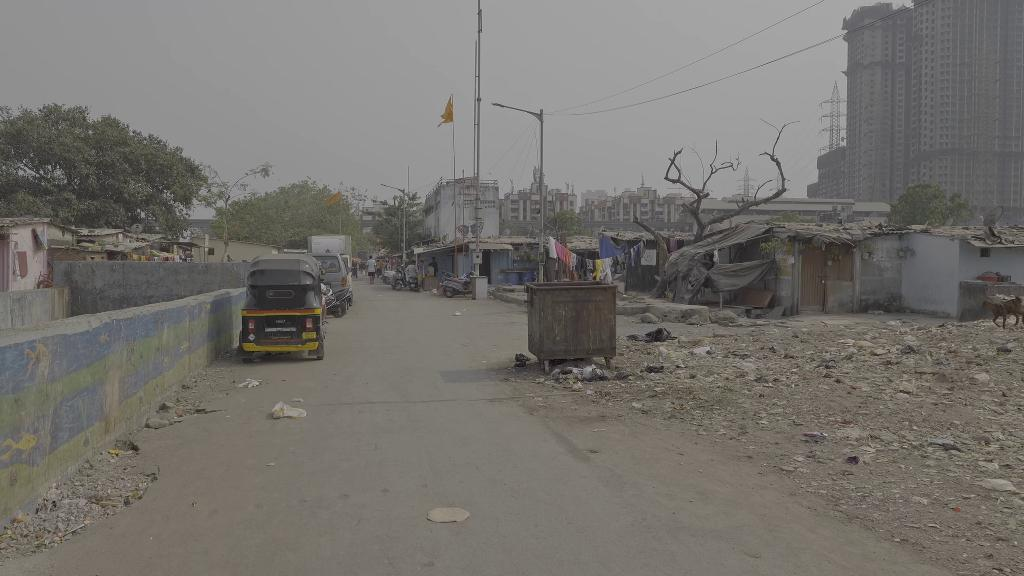dustbin: (527, 280, 621, 372)
garbage: (633, 326, 675, 349), (270, 402, 309, 421)
